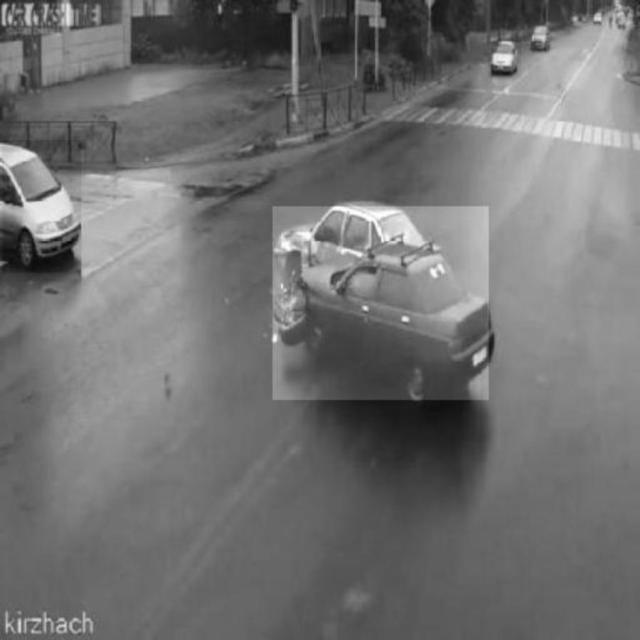accident: (273, 206, 489, 400)
vehicle: (3, 139, 81, 273), (492, 40, 522, 80)
